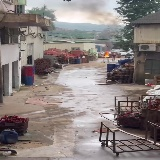fire: (104, 51, 109, 57)
